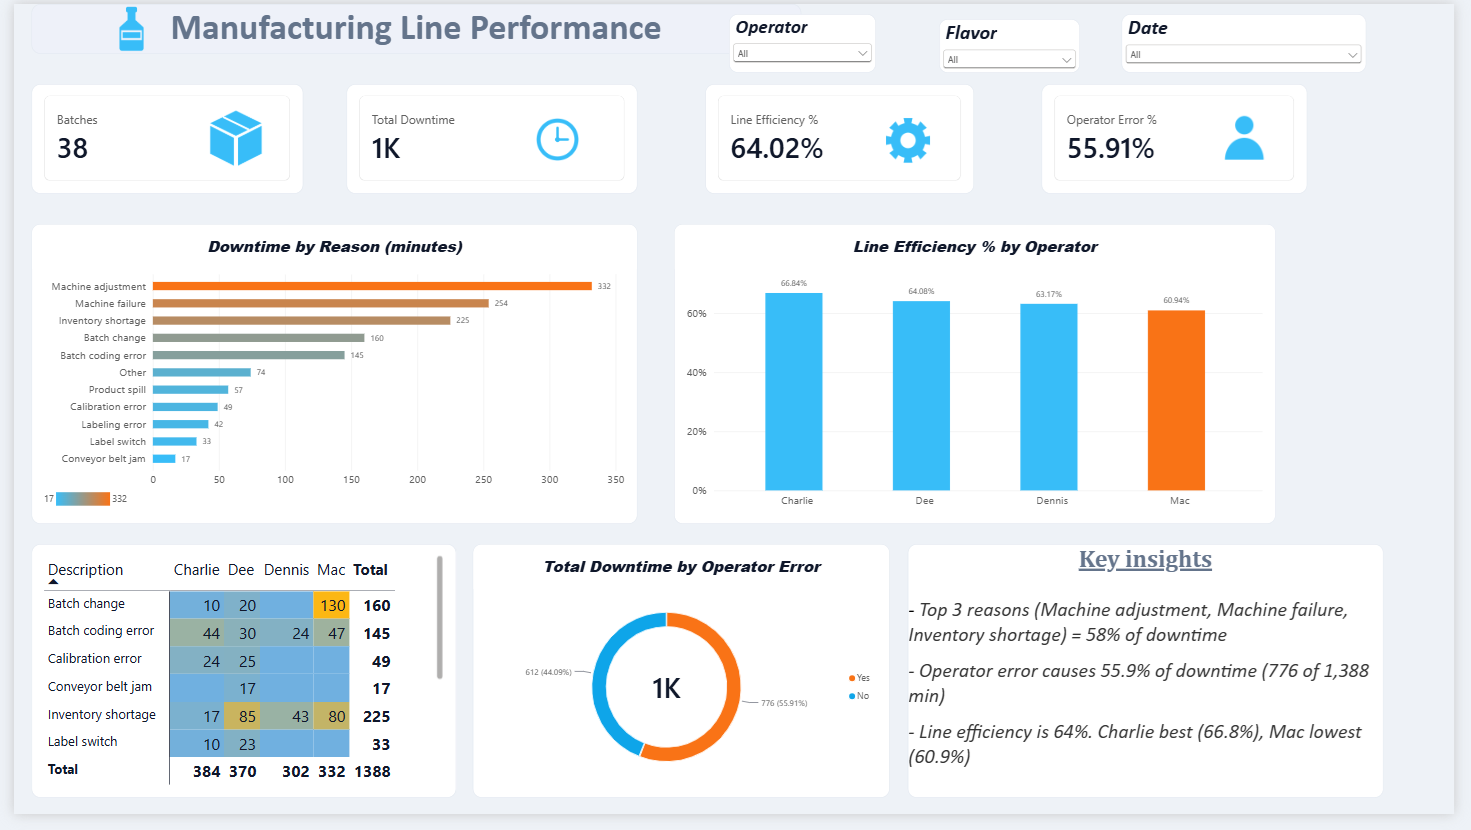

What the dashboard file says about the page in this screenshot:
{"tool":"powerbi","page":{"name":"Page 1","canvas":[1920,1080],"ordinal":0},"visuals":[{"type":"cardVisual","fields":{"Data":["Line productivity.Batches"]},"box":[24,106,362,146],"z":0},{"type":"cardVisual","fields":{"Data":["Line productivity.Line Efficiency %"]},"box":[922,106,358,146],"z":1000},{"type":"cardVisual","fields":{"Data":["Line productivity.Total Downtime"]},"box":[444,106,388,146],"z":2000},{"type":"cardVisual","fields":{"Data":["Line productivity.Operator Error %"]},"box":[1370,106,354,146],"z":3000},{"type":"clusteredBarChart","title":"Downtime by Reason (minutes)","fields":{"Category":["Downtime factors.Description"],"Y":["Line productivity.Total Downtime"]},"box":[24,294,808,400],"z":4000},{"type":"clusteredColumnChart","fields":{"Category":["Line productivity.Operator"],"Y":["Line productivity.Line Efficiency %"]},"box":[880,294,802,400],"z":5000},{"type":"donutChart","fields":{"Category":["Downtime factors.Operator Error"],"Y":["Line productivity.Total Downtime"]},"box":[612,720,556,338],"z":6000},{"type":"pivotTable","fields":{"Columns":["Line productivity.Operator"],"Rows":["Downtime factors.Description"],"Values":["Line productivity.Total Downtime"]},"box":[24,720,566,338],"z":7000},{"type":"textbox","box":[24,0,1026,66],"z":8000},{"type":"slicer","fields":{"Values":["Line productivity.Date"]},"box":[1476,14,326,78],"z":9000},{"type":"slicer","fields":{"Values":["Products.Flavor"]},"box":[1234,20,188,72],"z":10000},{"type":"slicer","fields":{"Values":["Line productivity.Operator"]},"box":[954,14,196,78],"z":11000},{"type":"textbox","box":[1192,720,634,338],"z":12000},{"type":"image","box":[106,0,100,66],"z":13000},{"type":"image","box":[1150,146,84,70],"z":14000},{"type":"image","box":[1598,142,84,78],"z":15000},{"type":"image","box":[686,146,76,68],"z":16000},{"type":"image","box":[246,134,98,90],"z":17000}]}

Visuals, with their boxes in screenshot pixels (x1, y1, x2, y2), scaled from the page's 1920x1080 canvas onto the 1471x830 screenshot:
cardVisual - Line productivity.Batches: [18,81,296,194]
cardVisual - Line productivity.Line Efficiency %: [706,81,981,194]
cardVisual - Line productivity.Total Downtime: [340,81,637,194]
cardVisual - Line productivity.Operator Error %: [1050,81,1321,194]
"Downtime by Reason (minutes)" clusteredBarChart: [18,226,637,533]
clusteredColumnChart - Line productivity.Operator x Line productivity.Line Efficiency %: [674,226,1289,533]
donutChart - Downtime factors.Operator Error x Line productivity.Total Downtime: [469,553,895,813]
pivotTable - Line productivity.Operator x Downtime factors.Description: [18,553,452,813]
textbox: [18,0,804,51]
slicer - Line productivity.Date: [1131,11,1381,71]
slicer - Products.Flavor: [945,15,1089,71]
slicer - Line productivity.Operator: [731,11,881,71]
textbox: [913,553,1399,813]
image: [81,0,158,51]
image: [881,112,945,166]
image: [1224,109,1289,169]
image: [526,112,584,164]
image: [188,103,264,172]
